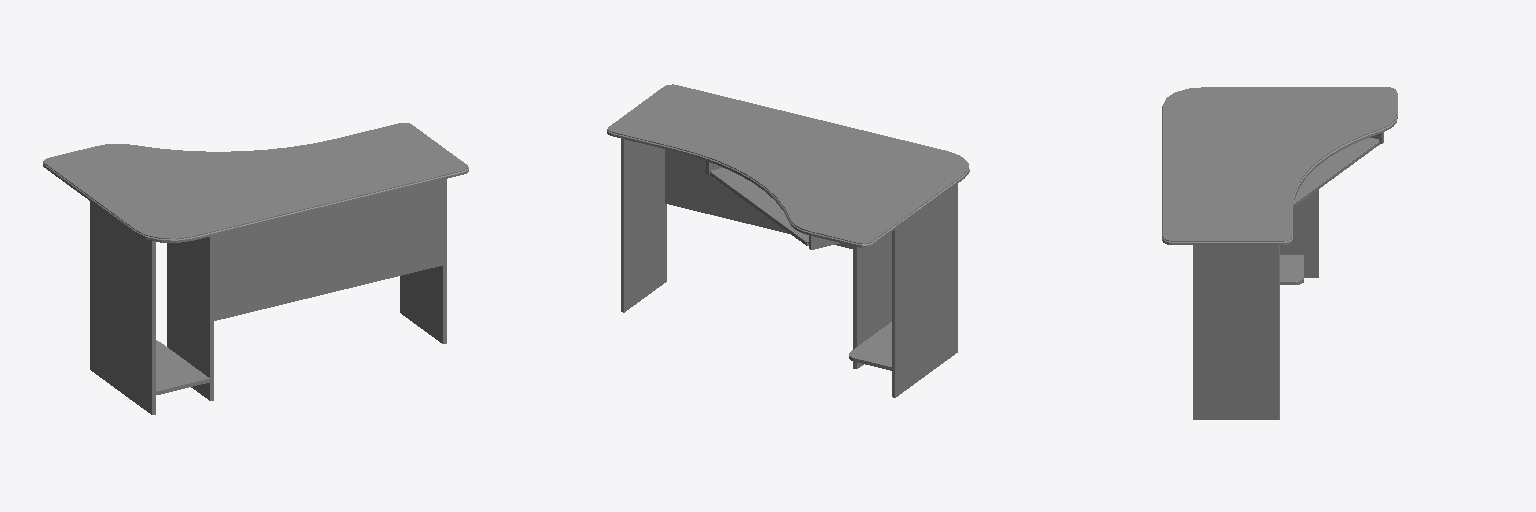
The model's file is computer_desk.obj.
3 renders of one model, left to right at view 1: azimuth 30°, elevation 25°; view 2: azimuth 150°, elevation 25°; view 3: azimuth 270°, elevation 25°, orthographic.
Visible parts, largest first — view 1: model1; view 2: model1; view 3: model1.
Part boxes in pixels (bbox=[...]): model1: bbox=[43, 123, 468, 414]; model1: bbox=[607, 84, 969, 397]; model1: bbox=[1162, 87, 1397, 419].
Bounding box in the file's own units: 617 × 342 × 397.